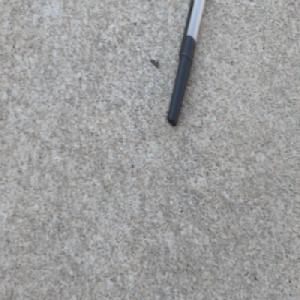Pen: (166, 0, 208, 128)
